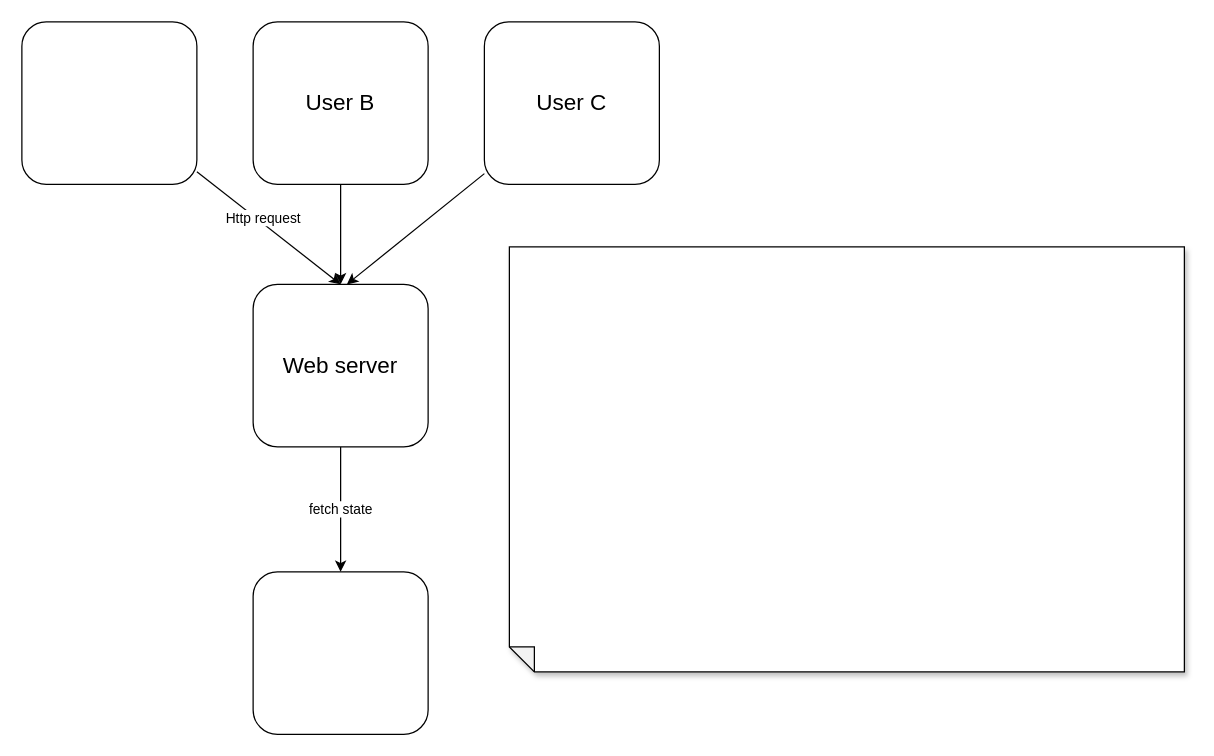
This 1214x756 diagram has some shape labels left out. The centre of each missing label's shape, as x and y in pixels:
shared storage: (x=340, y=652)
User A: (x=109, y=102)
